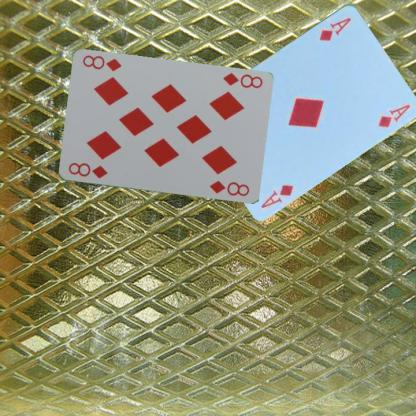8d: (65, 160, 109, 180), (220, 71, 264, 90)
Ad: (258, 182, 295, 209), (316, 15, 352, 42)
